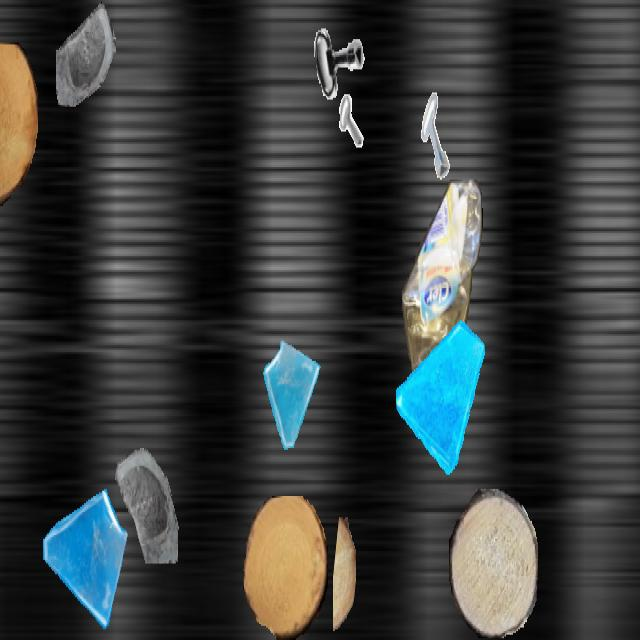glass: (39, 478, 129, 638), (396, 314, 486, 474), (105, 426, 181, 562), (260, 338, 324, 452), (56, 2, 116, 108)
metal: (307, 2, 369, 112), (413, 90, 463, 180), (315, 91, 363, 176)
plastic: (402, 180, 484, 439)
wood: (449, 489, 537, 638), (243, 496, 327, 638), (0, 43, 37, 206), (333, 518, 355, 638)
